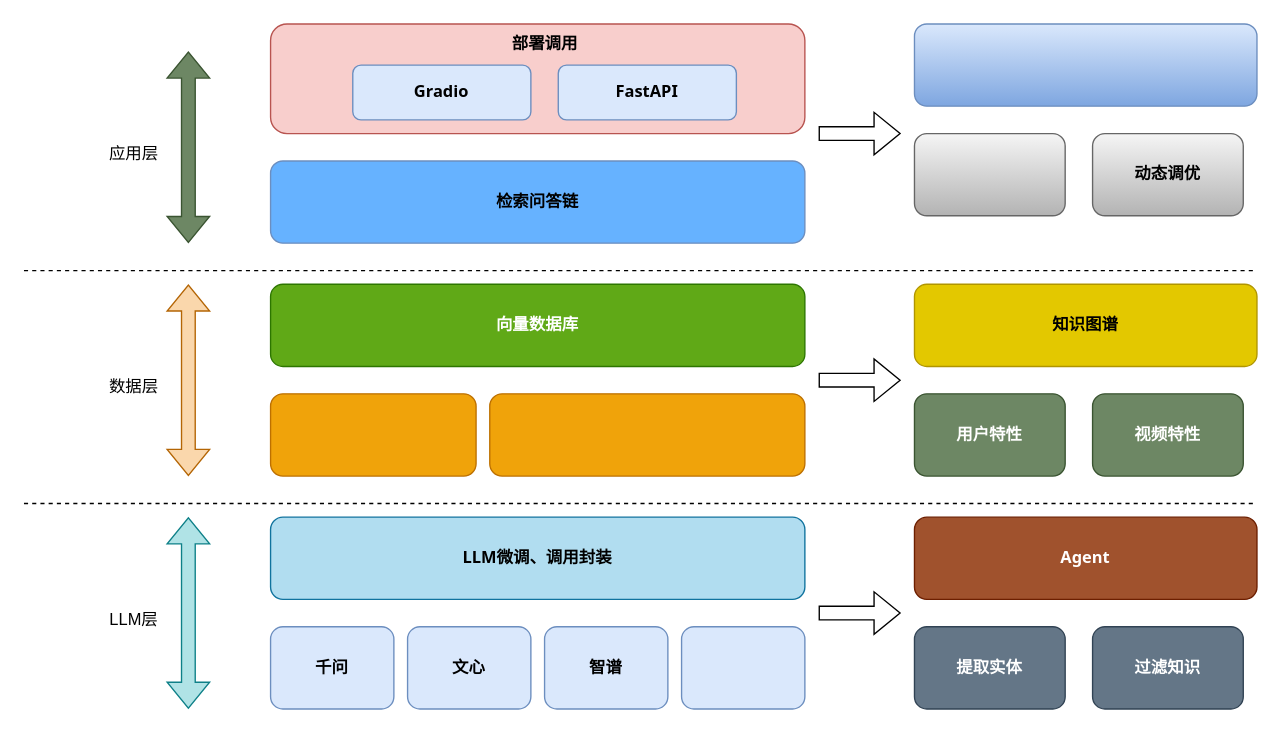
Image size: 1282x733. Some labels were removed from this diagram. The shapes that lost their labels are listed below. From the top down, each one's box as (x1, y1, x2, y2) in pixels, then its label:
(913, 23, 1257, 106): Prompt优化
(913, 132, 1065, 216): 模板设置
(269, 393, 476, 476): Embedding
(488, 393, 805, 476): 源数据
(680, 625, 805, 709): 星火
